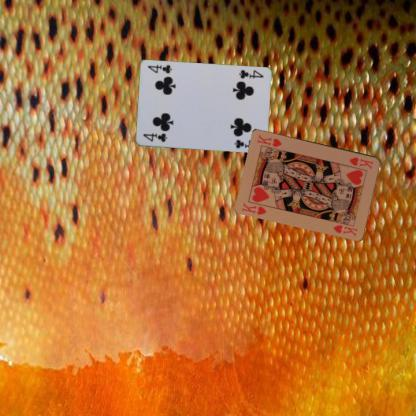4c: (141, 130, 168, 144), (236, 68, 265, 80)
Kh: (240, 200, 269, 216), (347, 154, 374, 170)
